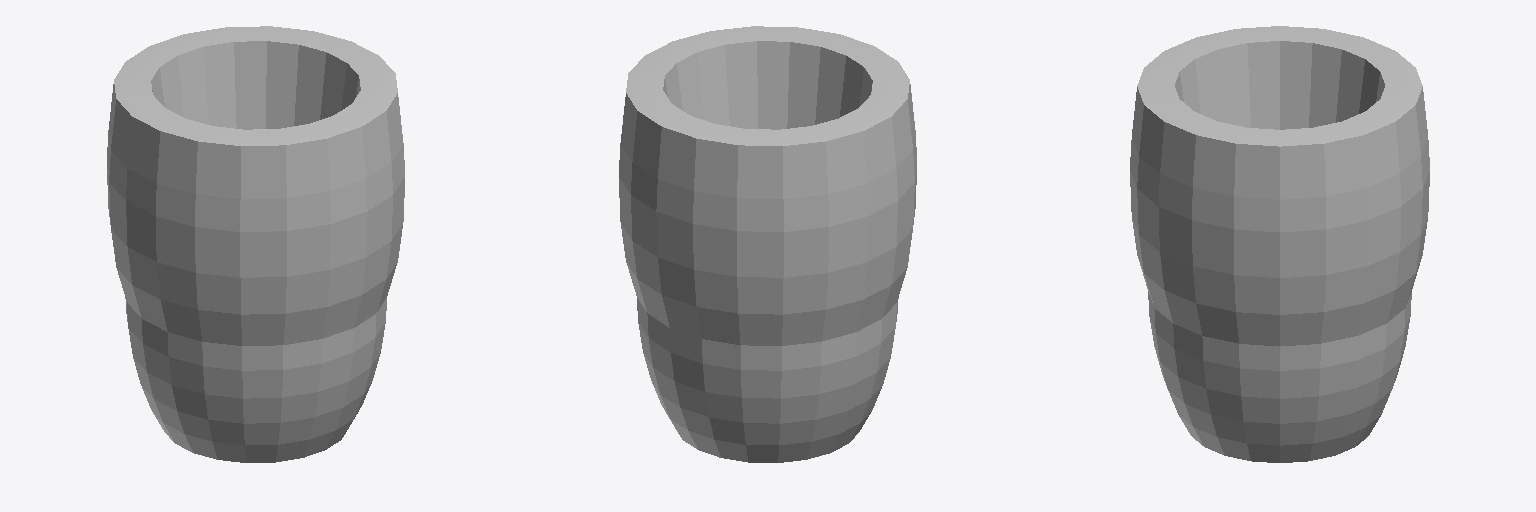
Rendered from CoffeeMug 1.obj.
3 views of the same model, side by side, from view 1: azimuth 30°, elevation 25°; view 2: azimuth 150°, elevation 25°; view 3: azimuth 270°, elevation 25° (orthographic).
Visible parts, largest first — view 1: polySurface4; view 2: polySurface4; view 3: polySurface4.
Boxes of the visible parts, <box> form: polySurface4: <box>107,26,404,462</box>; polySurface4: <box>619,26,916,462</box>; polySurface4: <box>1130,26,1429,462</box>.
Size of the model in its own units: 2.27 by 2.85 by 2.27.